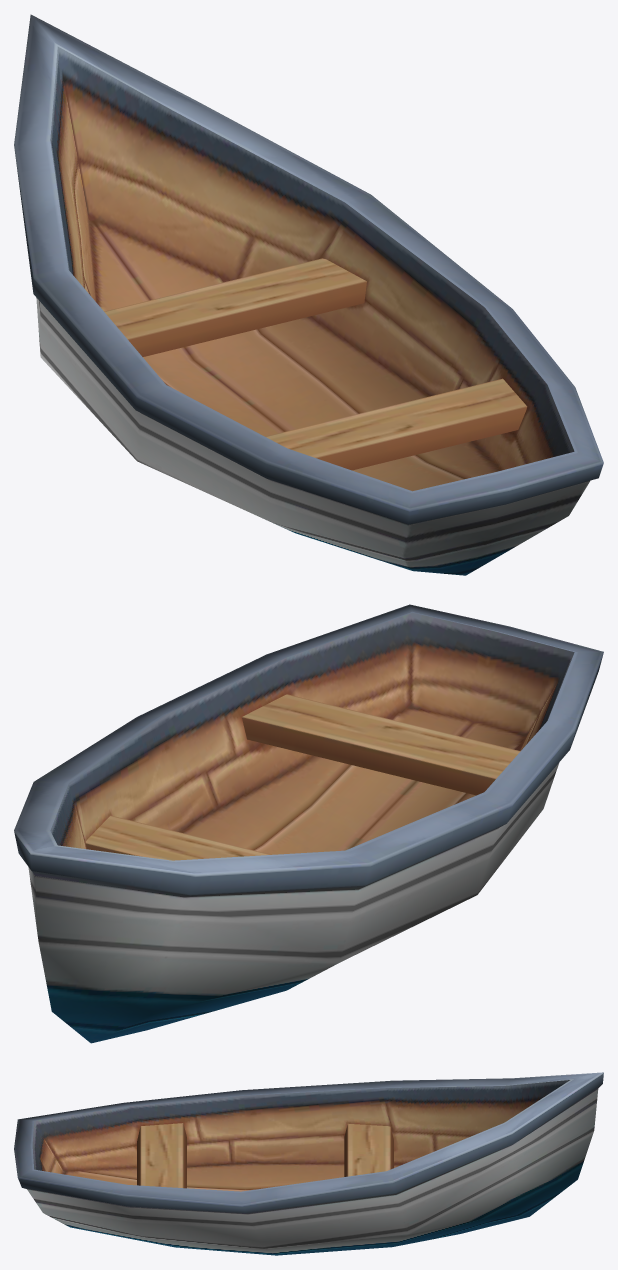
File: furn_se2021_boat_001.gltf
3 renders of one model, top to bottom at view 1: azimuth 30°, elevation 25°; view 2: azimuth 150°, elevation 25°; view 3: azimuth 270°, elevation 25°, orthographic. The views are drawn at different scales.
Parts seen in each view (by area): view 1: se2021_boat_001; view 2: se2021_boat_001; view 3: se2021_boat_001.
Boxes of the visible parts, x1=… form: se2021_boat_001: x1=14, y1=14, x2=603, y2=575; se2021_boat_001: x1=14, y1=604, x2=603, y2=1043; se2021_boat_001: x1=14, y1=1072, x2=603, y2=1255.
Bounding box in the file's own units: 0.5021 × 0.3395 × 1.11.
1 material, 1 textured.
